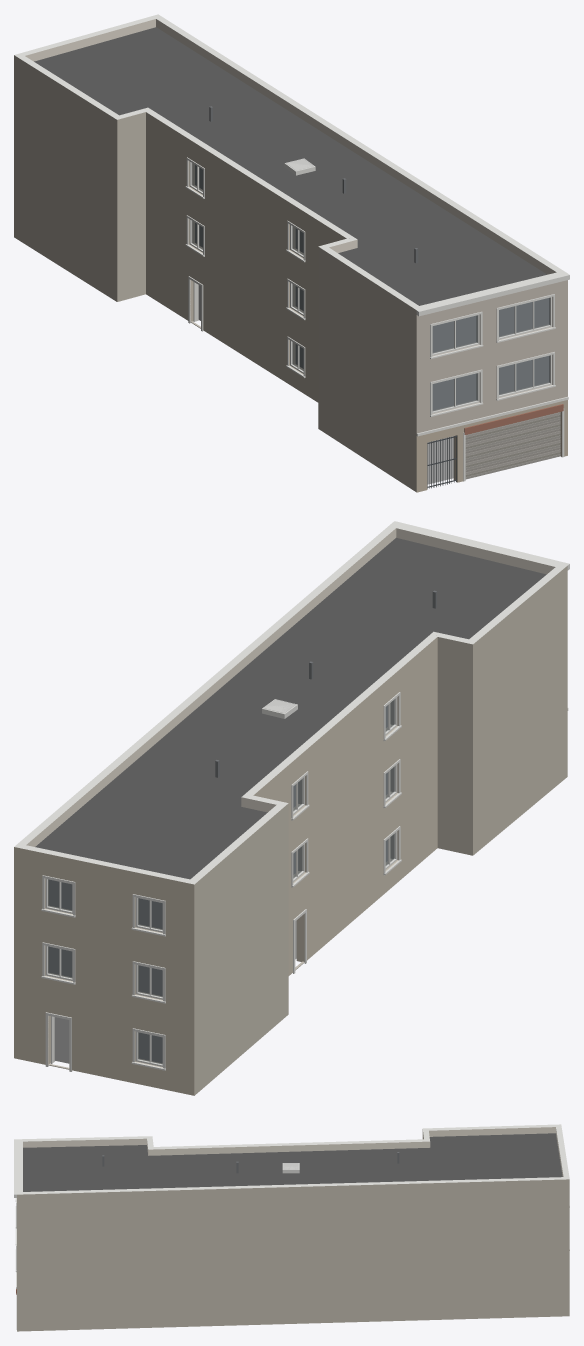
The model's file is exterior.glb.
3 renders of one model, top to bottom at view 1: azimuth 30°, elevation 25°; view 2: azimuth 150°, elevation 25°; view 3: azimuth 270°, elevation 25°, orthographic. The views are drawn at different scales.
Visible parts, largest first — view 1: shell, roof, shadow-proxy, glazing, doors, trim, frames; view 2: shell, roof, trim, glazing, shadow-proxy, frames, rooftop; view 3: shell, roof, rooftop.
Part boxes in pixels (<box>): shell: <box>14,14,567,492</box>; roof: <box>34,27,569,316</box>; shadow-proxy: <box>195,165,548,484</box>; glazing: <box>192,163,549,411</box>; doors: <box>190,282,564,488</box>; trim: <box>185,157,568,436</box>; frames: <box>189,161,552,413</box>; shell: <box>14,523,567,1095</box>; roof: <box>35,521,569,879</box>; trim: <box>41,692,568,1071</box>; glazing: <box>48,700,394,1064</box>; shadow-proxy: <box>49,706,387,1063</box>; frames: <box>45,697,397,1066</box>; rooftop: <box>215,590,436,777</box>; shell: <box>17,1124,569,1331</box>; roof: <box>14,1133,562,1197</box>; rooftop: <box>102,1152,399,1173</box>.
Size of the model in its own units: 9.7 by 9.15 by 32.47.
